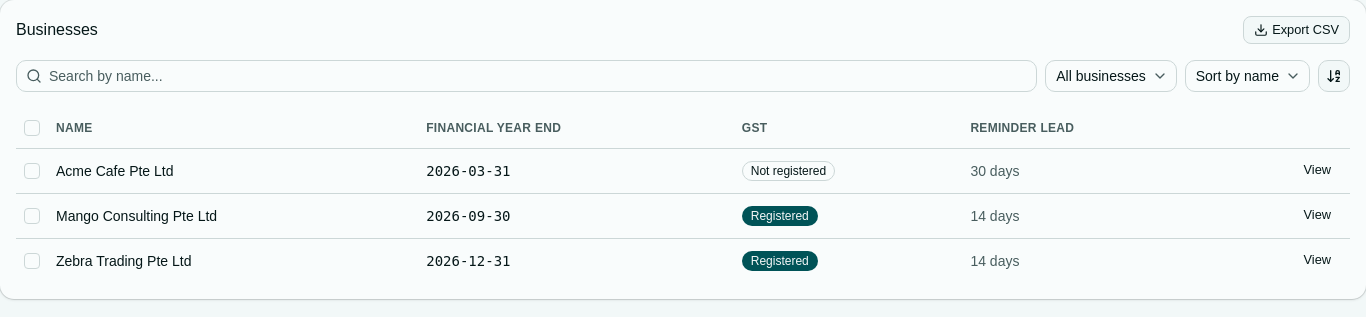
it: BusinessList - bulk select and actions (issue #35) › select-all selects every currently visible row, respecting the active filter
The image size is (1366, 317).
In the field with placeholder "Search by name...": point(527, 76) [16,60,1037,92], type "cafe"
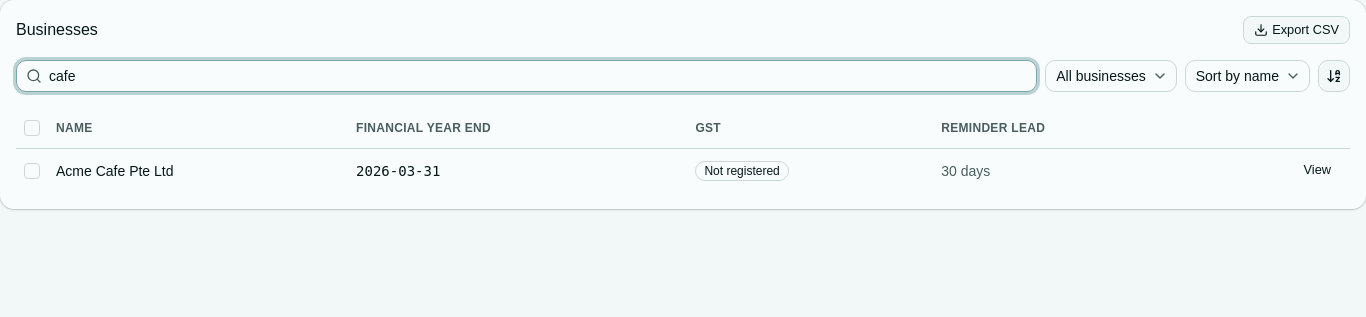
Click the checkbox named "Select all businesses": point(32, 128) [24,120,40,136]
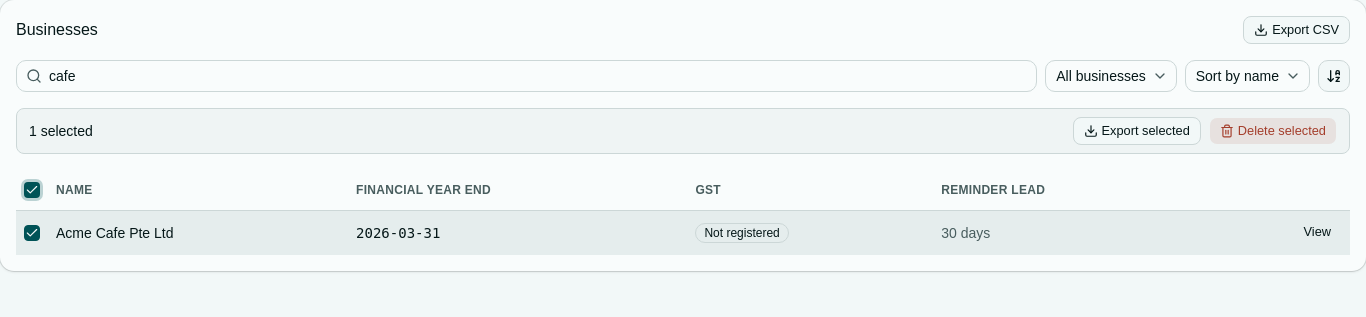
Now the text "1 selected" is shown, box [29,121,93,141]
